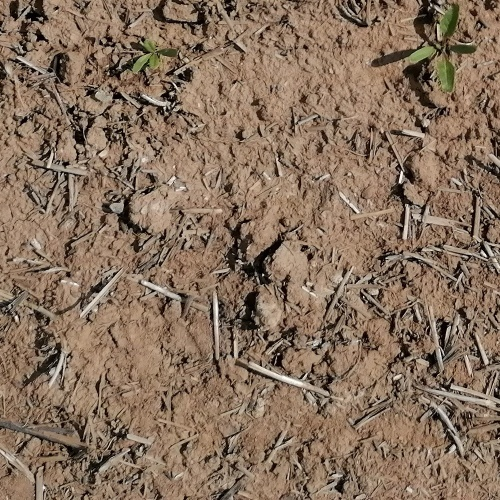beet: (406, 2, 476, 96), (132, 36, 177, 75)
